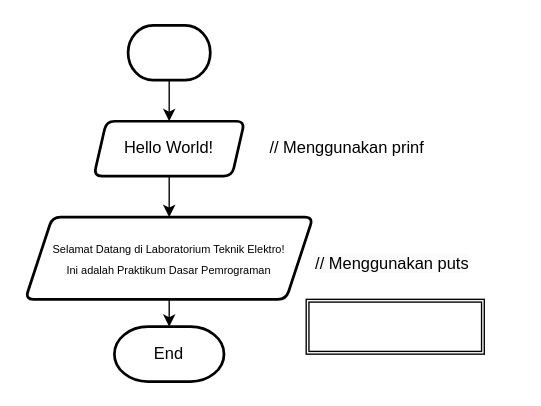
Image size: 541x406. Some labels were removed from this diagram. Each missing label, with the box of its shape:
Dwi Rahmat Maulana D400240014: (305, 298, 484, 354)
Start: (126, 23, 211, 81)
